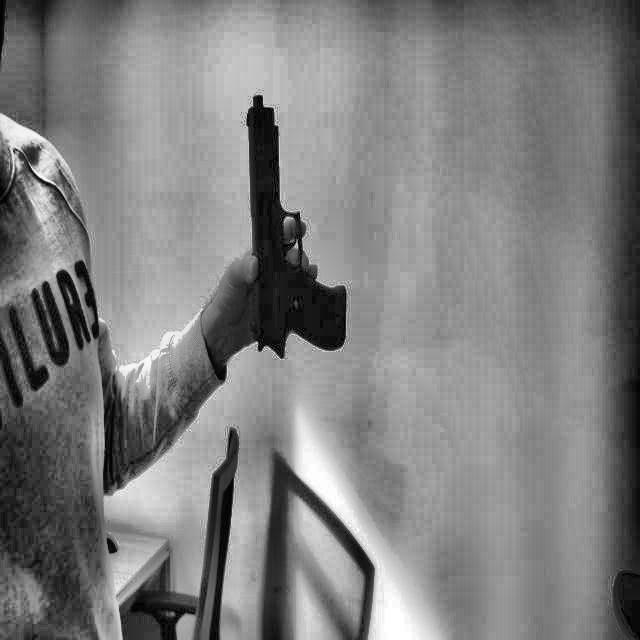pistol: (220, 77, 384, 364)
